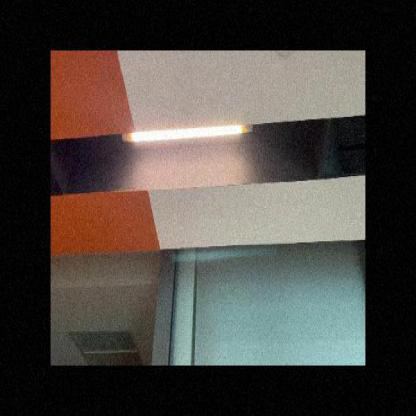light_on: (116, 116, 258, 152)
